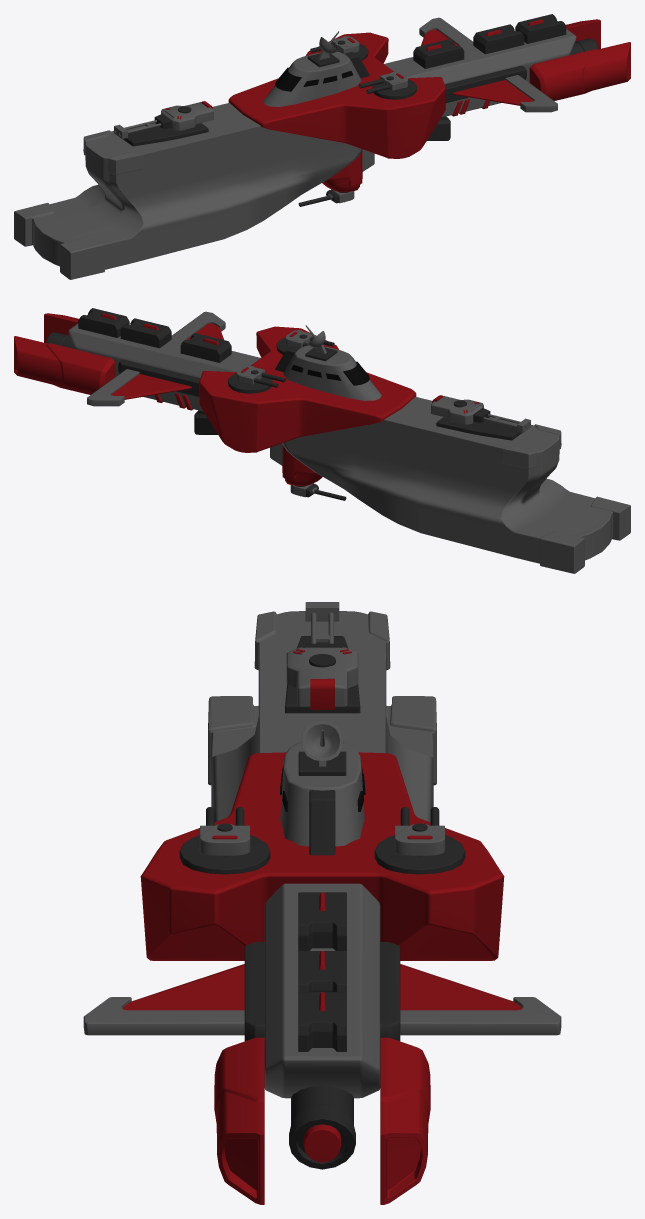
The model's file is ship.glb.
3 renders of one model, top to bottom at view 1: azimuth 30°, elevation 25°; view 2: azimuth 150°, elevation 25°; view 3: azimuth 270°, elevation 25°, orthographic. The views are drawn at different scales.
Visible parts, largest first — view 1: Light_Cruiser_3; view 2: Light_Cruiser_3; view 3: Light_Cruiser_3.
Part boxes in pixels (x1,y1,x2,y2): Light_Cruiser_3: (14, 14, 630, 279); Light_Cruiser_3: (14, 308, 630, 573); Light_Cruiser_3: (83, 602, 561, 1204).
Bounding box in the file's own units: 76.3 × 21.79 × 27.5.
Materials: 1 (1 with a texture image).
